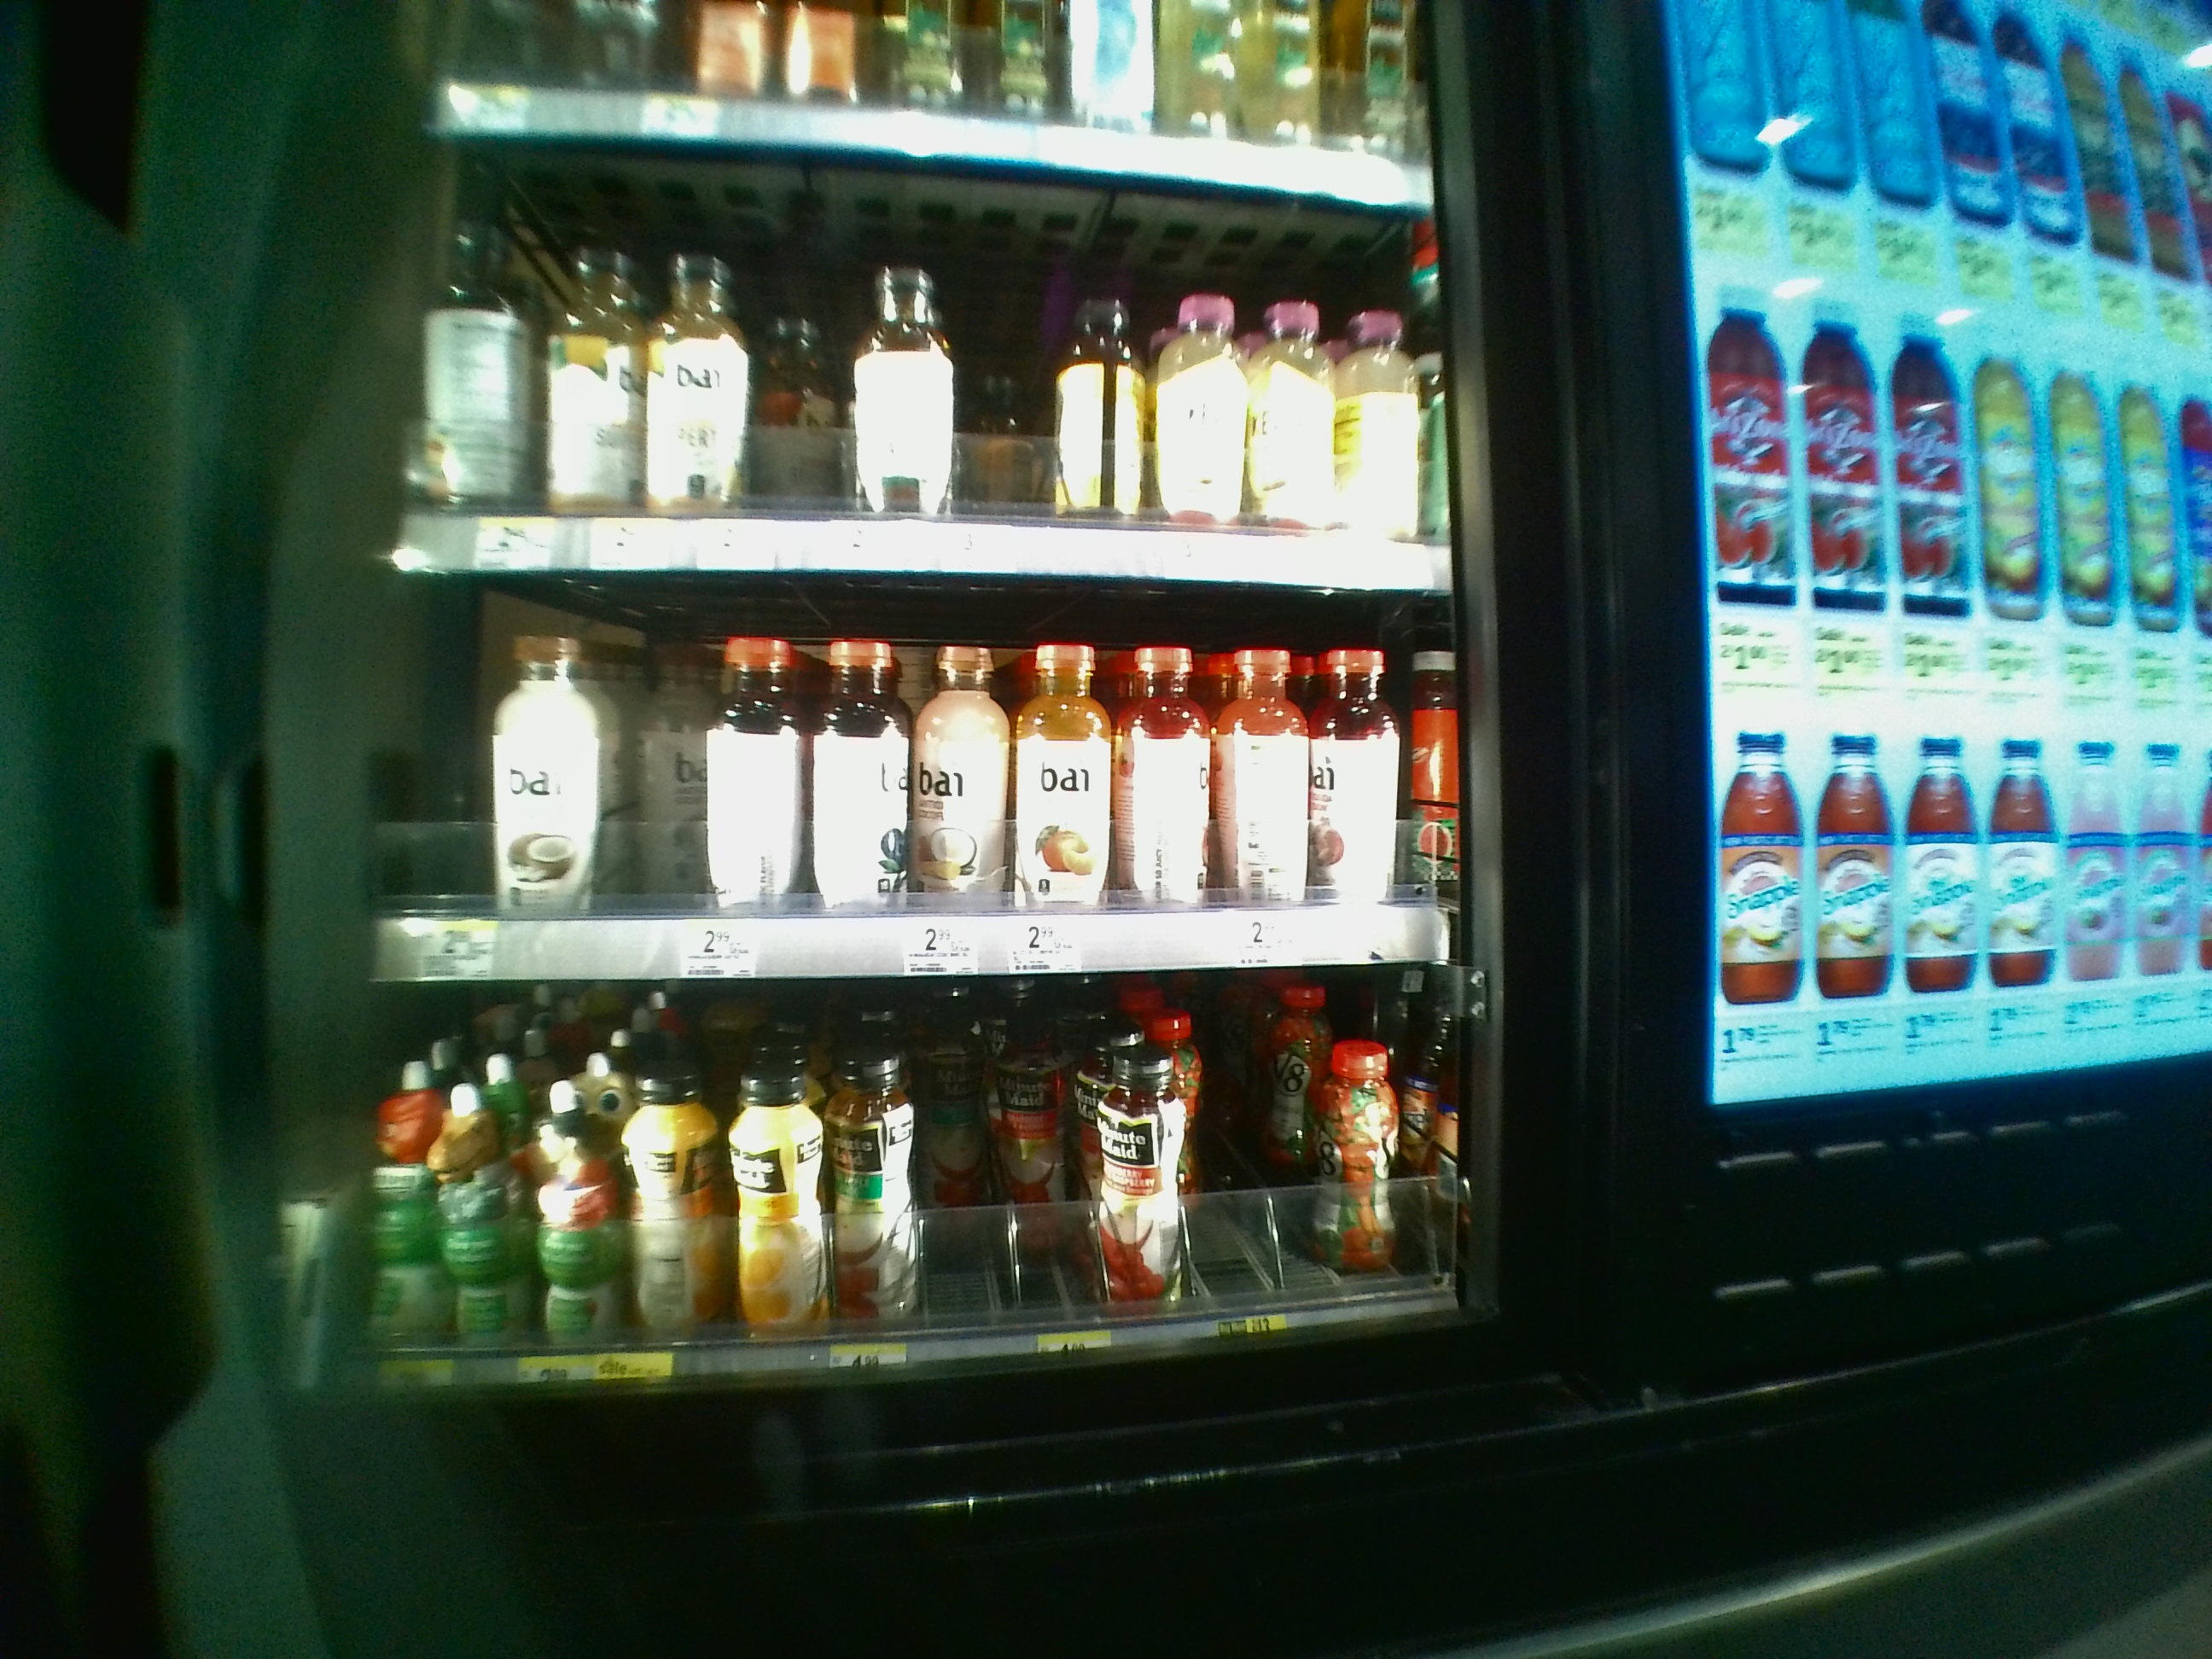shelf: (399, 141, 1463, 582), (380, 582, 1475, 985), (369, 1002, 1484, 1391)
